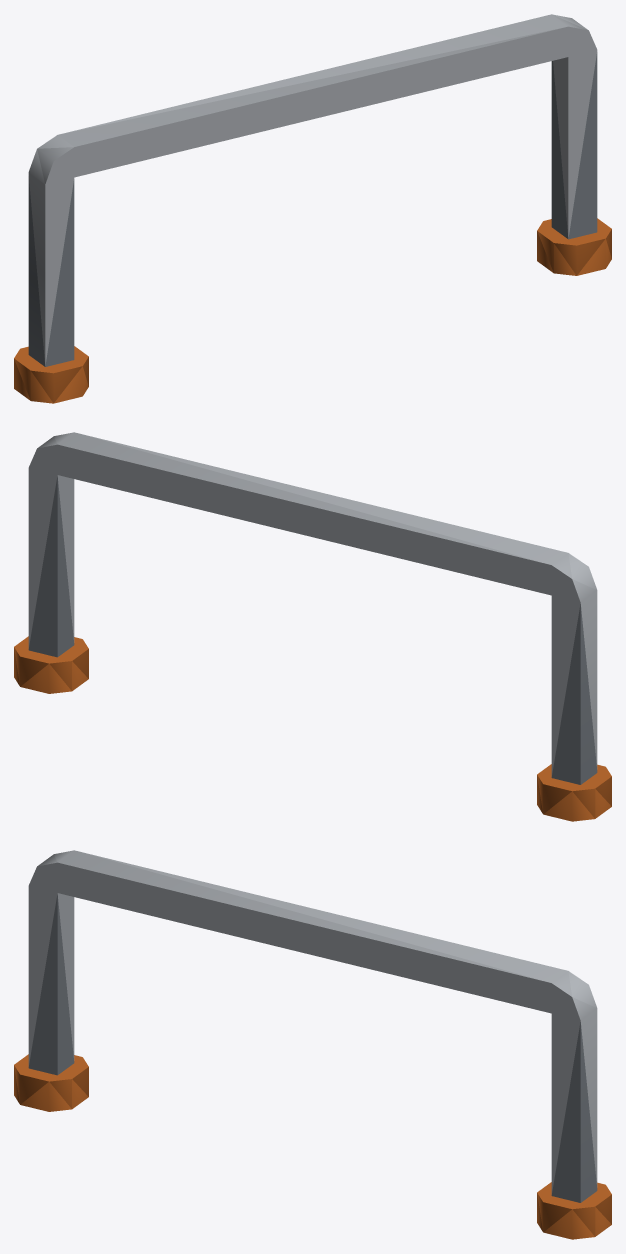
File: Kit_rail.fbx
3 views of the same model, one above another, from view 1: azimuth 30°, elevation 25°; view 2: azimuth 150°, elevation 25°; view 3: azimuth 330°, elevation 25° (orthographic).
Parts seen in each view (by area): view 1: Kit_rail; view 2: Kit_rail; view 3: Kit_rail.
Boxes of the visible parts, left/top/right/bottom form: Kit_rail: left=14, top=14, right=611, bottom=403; Kit_rail: left=14, top=432, right=611, bottom=821; Kit_rail: left=14, top=850, right=611, bottom=1239.
Size of the model in its own units: 1 by 0.4 by 0.1.
